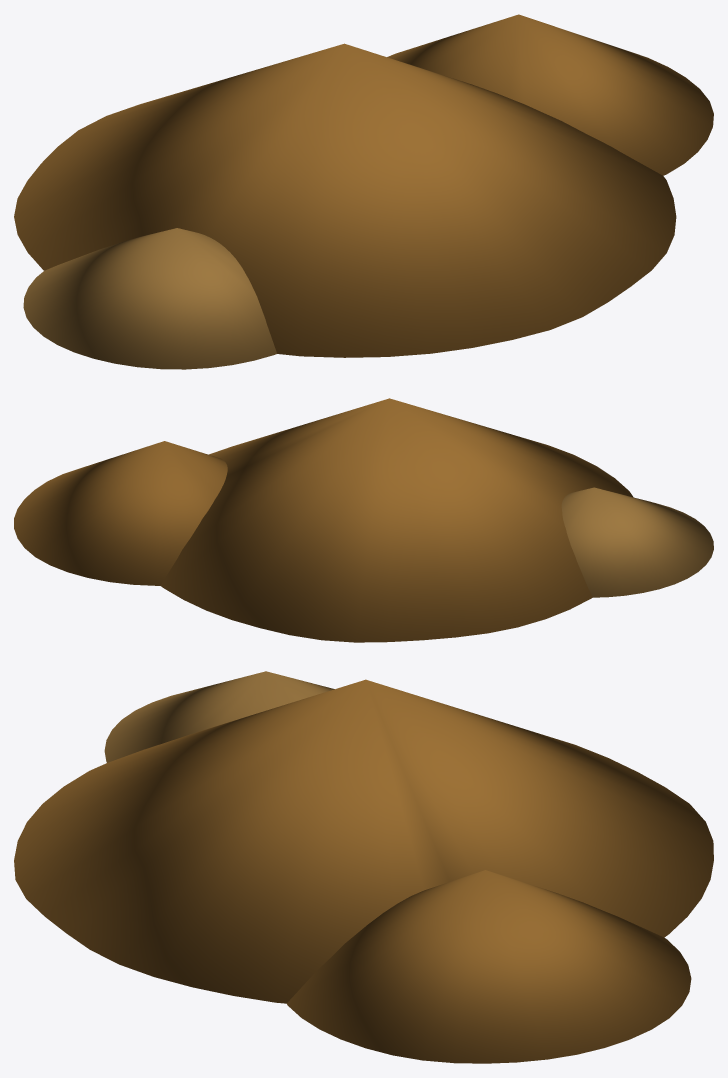
File: sand-deposit.obj
The picture shows the model from 3 angles, top to bottom: view 1: azimuth 30°, elevation 25°; view 2: azimuth 150°, elevation 25°; view 3: azimuth 270°, elevation 25°; orthographic projection. The views are drawn at different scales.
Visible parts, largest first — view 1: sand-deposit; view 2: sand-deposit; view 3: sand-deposit.
Boxes of the visible parts, x1,y1,x2,y2 form: sand-deposit: (14, 14, 713, 369); sand-deposit: (14, 398, 713, 642); sand-deposit: (14, 671, 713, 1063).
Bounding box in the file's own units: 2.26 × 0.5213 × 1.75.
